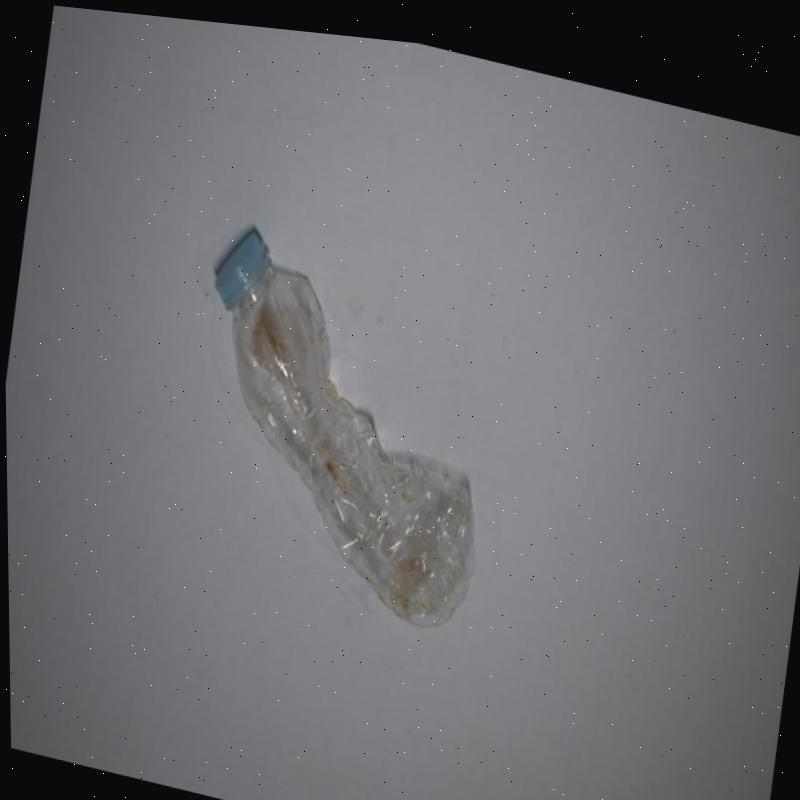botella: (168, 211, 511, 634)
